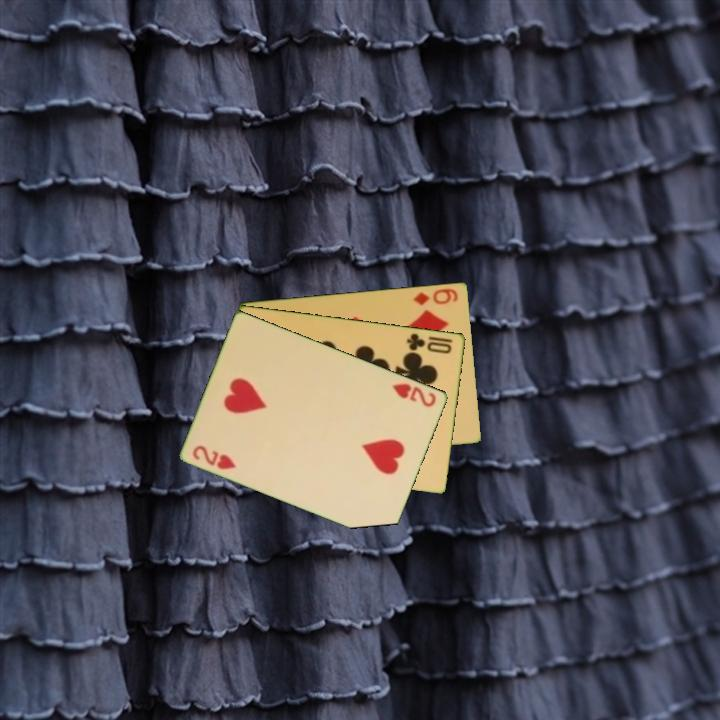10c: (404, 329, 455, 356)
2h: (389, 379, 439, 410), (189, 442, 239, 472)
6d: (410, 284, 461, 308)
